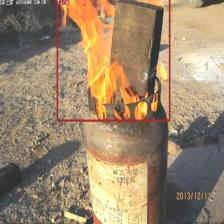fire: (56, 0, 169, 121)
